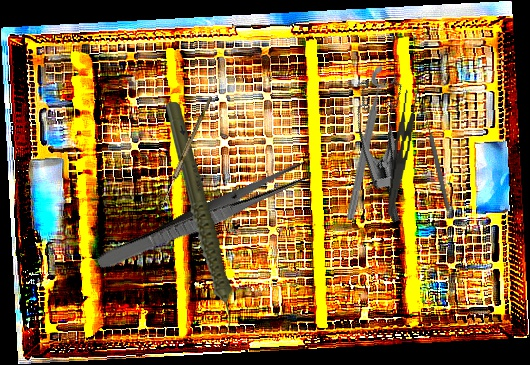Dressing Forceps: (94, 158, 312, 277), (386, 82, 422, 219)
Fixation Ring: (341, 64, 400, 224)
Handpiece: (163, 100, 235, 337)
Speculum: (329, 67, 455, 224)
Surgical Spoon: (159, 94, 213, 210), (420, 102, 452, 212)
